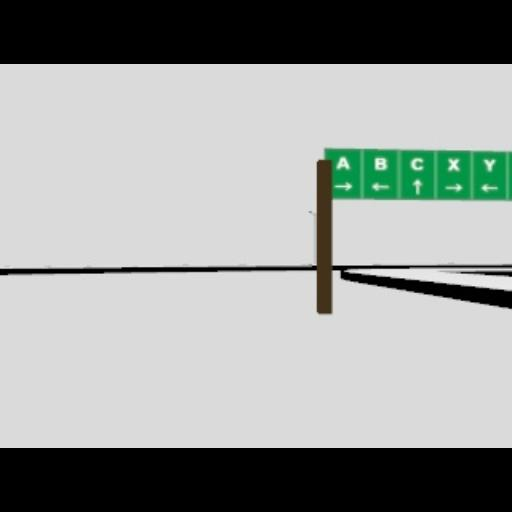A: (334, 155, 350, 169)
B: (373, 156, 387, 170)
C: (410, 156, 424, 170)
Left: (370, 181, 390, 191), (480, 184, 498, 192)
Right: (332, 181, 352, 191), (444, 182, 462, 190)
Straight: (412, 178, 422, 194)
X: (446, 157, 460, 171)
Y: (482, 158, 496, 172)
